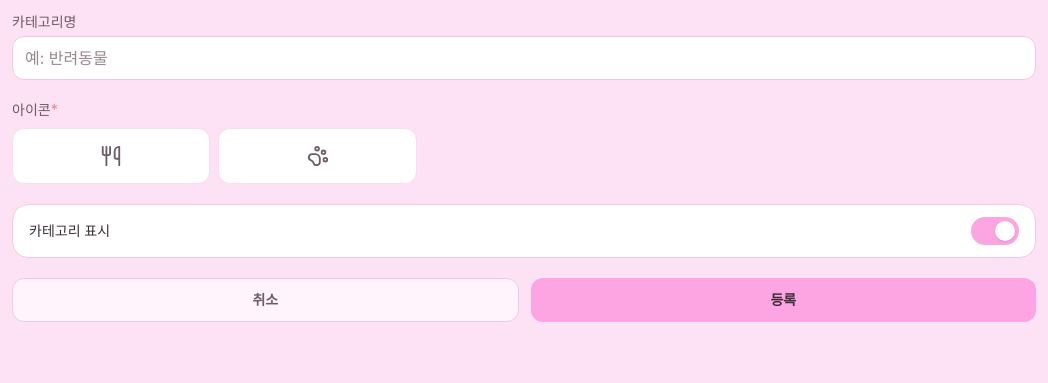
it: CategoryForm › shows validation messages for missing name and icon
Expected: the field labelled "카테고리명" is shown, [12,36,1036,80]
Step 1. Click the button "등록" → [783, 300], box [530,278,1036,322]
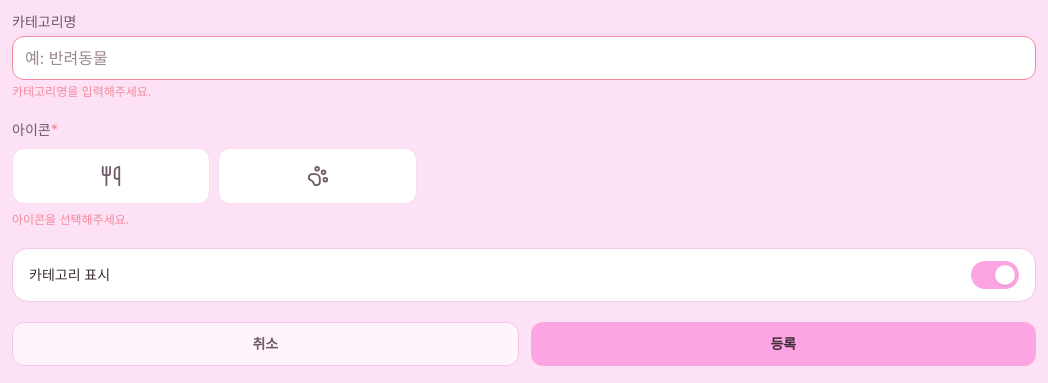
Now the text "카테고리명을 입력해주세요." is shown, box [12,84,151,99]
Now the text "아이콘을 선택해주세요." is shown, box [12,212,129,227]
